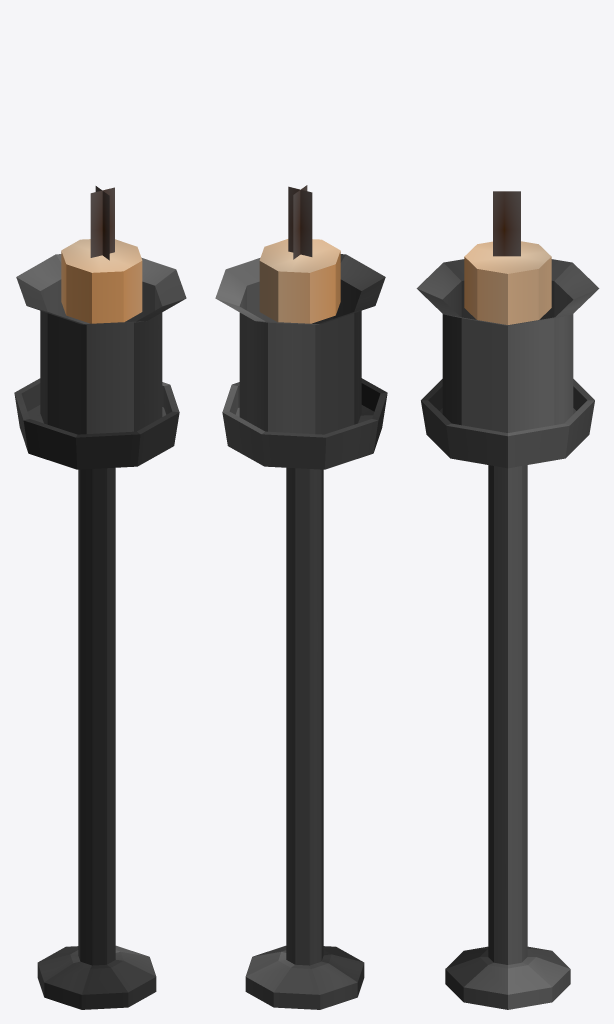
Rendered from spent_light_997x15.obj.
The picture shows the model from 3 angles, left to right: view 1: azimuth 30°, elevation 25°; view 2: azimuth 150°, elevation 25°; view 3: azimuth 270°, elevation 25°; orthographic projection.
Visible parts, largest first — view 1: spent_light_997x15; view 2: spent_light_997x15; view 3: spent_light_997x15.
Boxes of the visible parts, x1,y1,x2,y2 form: spent_light_997x15: [14, 186, 186, 1009]; spent_light_997x15: [215, 185, 387, 1009]; spent_light_997x15: [416, 191, 599, 1009].
Bounding box in the file's own units: 0.3876 × 2.3 × 0.401.
